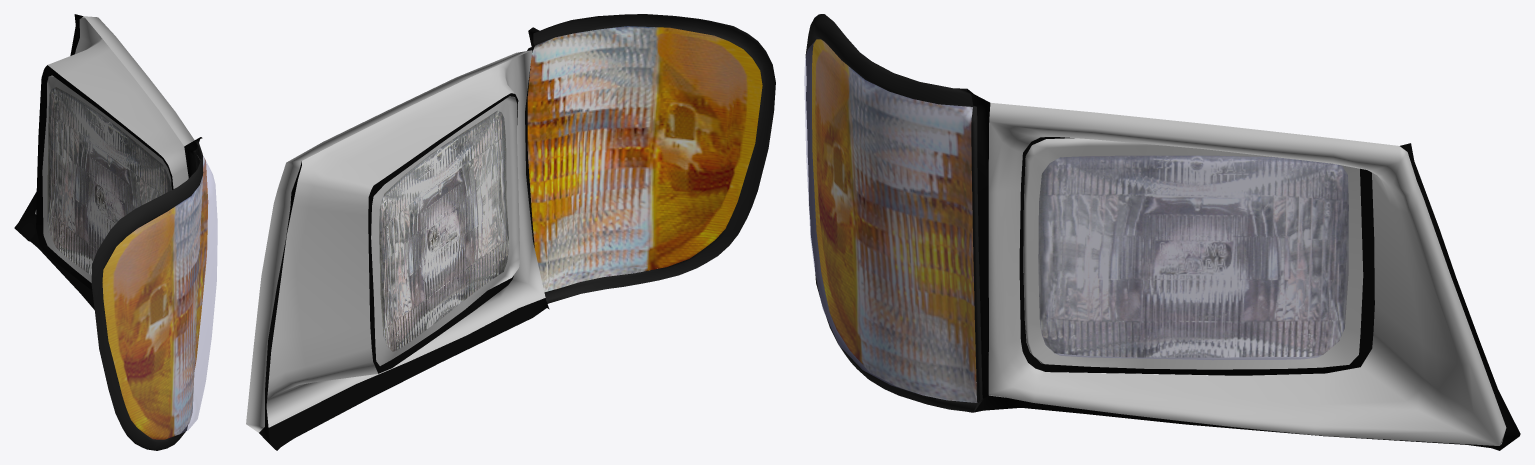
3 views of the same model, side by side, from view 1: azimuth 30°, elevation 25°; view 2: azimuth 150°, elevation 25°; view 3: azimuth 270°, elevation 25° (orthographic). The views are drawn at different scales.
Parts seen in each view (by area): view 1: P615_5A_061B_R_P615_5A_061B_R_3_N, P615_5A_061B_R_P615_5A_061B_R_6_DTaSI, P615_5A_061B_R_2_DaS_P615_5A_061B_R, P615_5A_061B_R_P615_5A_061B_R_5_D, P615_5A_061B_R_P615_5A_061B_R_4_D; view 2: P615_5A_061B_R_P615_5A_061B_R_3_N, P615_5A_061B_R_2_DaS_P615_5A_061B_R, P615_5A_061B_R_P615_5A_061B_R_4_D, P615_5A_061B_R_P615_5A_061B_R_5_D; view 3: P615_5A_061B_R_P615_5A_061B_R_3_N, P615_5A_061B_R_2_DaS_P615_5A_061B_R, P615_5A_061B_R_P615_5A_061B_R_1_DTaSI, P615_5A_061B_R_P615_5A_061B_R_6_DTaSI, P615_5A_061B_R_P615_5A_061B_R_4_D, P615_5A_061B_R_P615_5A_061B_R_5_D.
Part boxes in pixels (box(x1,y1,x2,y2)): P615_5A_061B_R_P615_5A_061B_R_3_N: box(47, 87, 208, 439); P615_5A_061B_R_P615_5A_061B_R_6_DTaSI: box(103, 156, 217, 439); P615_5A_061B_R_2_DaS_P615_5A_061B_R: box(35, 16, 194, 282); P615_5A_061B_R_P615_5A_061B_R_5_D: box(91, 141, 203, 450); P615_5A_061B_R_P615_5A_061B_R_4_D: box(14, 14, 202, 309); P615_5A_061B_R_P615_5A_061B_R_3_N: box(379, 26, 762, 351); P615_5A_061B_R_2_DaS_P615_5A_061B_R: box(246, 50, 545, 432); P615_5A_061B_R_P615_5A_061B_R_4_D: box(259, 27, 549, 450); P615_5A_061B_R_P615_5A_061B_R_5_D: box(527, 14, 775, 303); P615_5A_061B_R_P615_5A_061B_R_3_N: box(812, 39, 1348, 402); P615_5A_061B_R_2_DaS_P615_5A_061B_R: box(988, 102, 1506, 445); P615_5A_061B_R_P615_5A_061B_R_1_DTaSI: box(1038, 156, 1348, 359); P615_5A_061B_R_P615_5A_061B_R_6_DTaSI: box(804, 39, 976, 402); P615_5A_061B_R_P615_5A_061B_R_4_D: box(966, 89, 1520, 450); P615_5A_061B_R_P615_5A_061B_R_5_D: box(805, 14, 983, 412).
Size of the model in its own units: 22.49 by 23.08 by 44.57.
